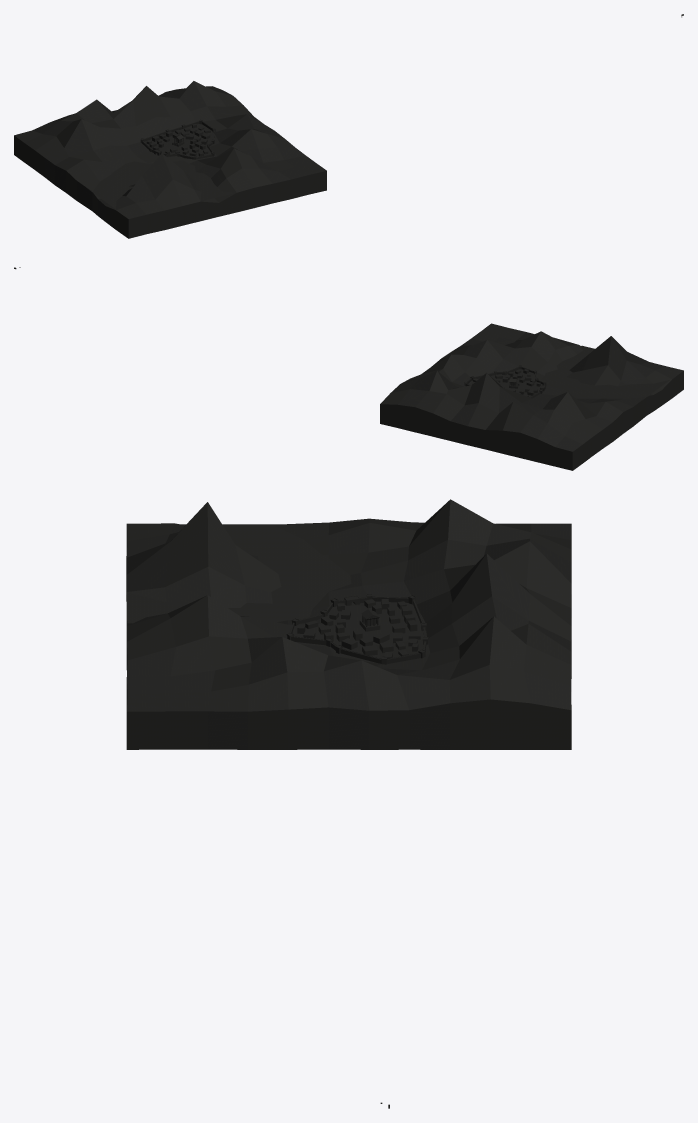
Rendered from lbvillage.glb.
The picture shows the model from 3 angles, top to bottom: view 1: azimuth 30°, elevation 25°; view 2: azimuth 150°, elevation 25°; view 3: azimuth 270°, elevation 25°; orthographic projection. The views are drawn at different scales.
Parts seen in each view (by area): view 1: Plane.003; view 2: Plane.003; view 3: Plane.003.
Boxes of the visible parts, x1,y1,x2,y2 form: Plane.003: (14,14,683,238); Plane.003: (14,267,683,470); Plane.003: (126,499,571,1108).
Size of the model in its own units: 94.16 by 8.43 by 30.03.
Materials: 1 (1 with a texture image).
